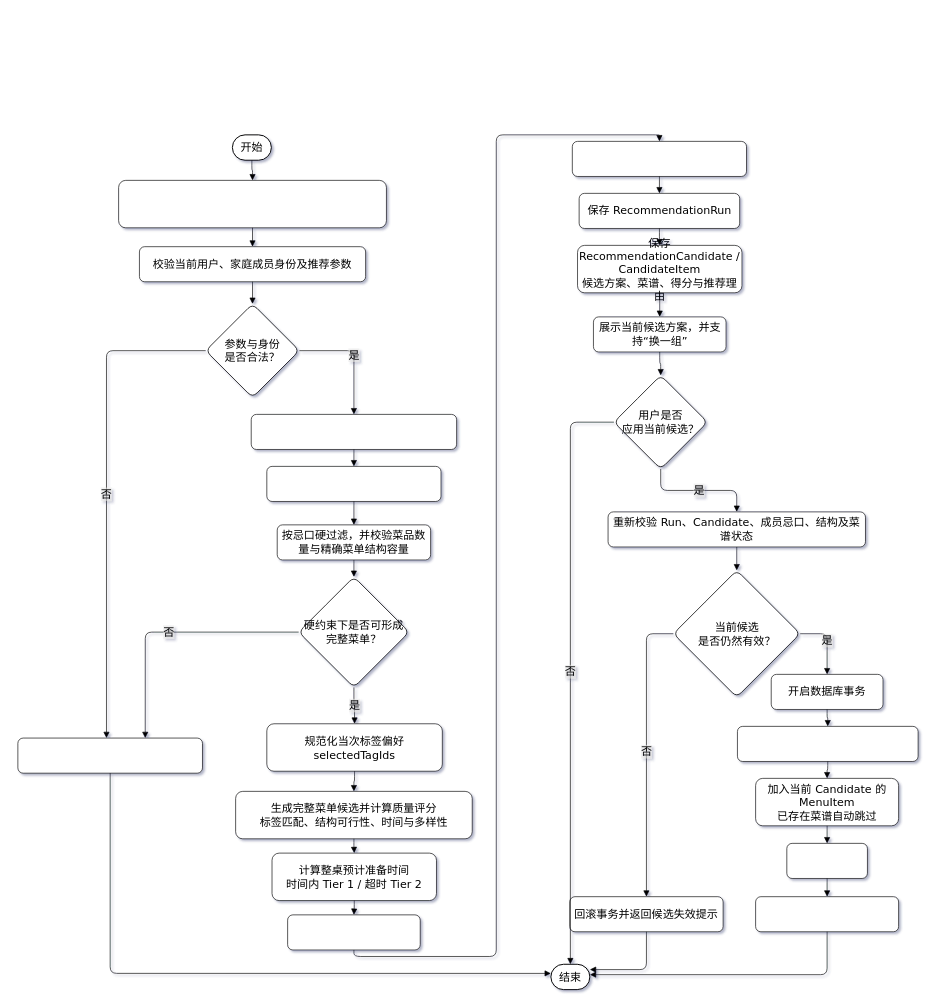
Some shapes in this 933 by 1005 pixel diagram are drawn without their labels. Each missing label, with the centre of its shape:
"按日期与餐次获取或创建 Menu" belongs at (x=827, y=743).
"按时间层级与质量排序，在高质量窗口内受控探索 最多保留 3 套候选" belongs at (x=353, y=932).
"提交事务" belongs at (x=826, y=860).
"汇总所有有效成员的食材限制（忌口）" belongs at (x=353, y=483).
"生成 Candidate A / B / C 及推荐理由" belongs at (x=659, y=158).
"用户设置推荐条件 目标日期、餐次、标签偏好、准备时间、菜品数量与结构" belongs at (x=252, y=204).
"读取当前家庭有效菜谱、标签、食材及推荐元数据" belongs at (x=354, y=431).
"返回参数错误或硬约束不可行提示" belongs at (x=109, y=755).
"返回菜单应用成功结果" belongs at (x=827, y=914).
